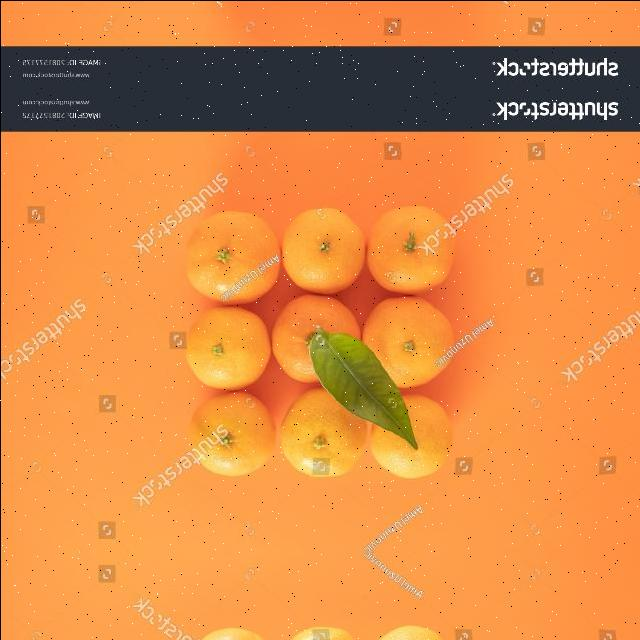Orange: (185, 210, 280, 305), (362, 296, 455, 389), (271, 294, 361, 384), (280, 387, 369, 478), (366, 205, 455, 294), (190, 391, 275, 477), (185, 306, 271, 390), (282, 207, 365, 294), (370, 393, 451, 479)
